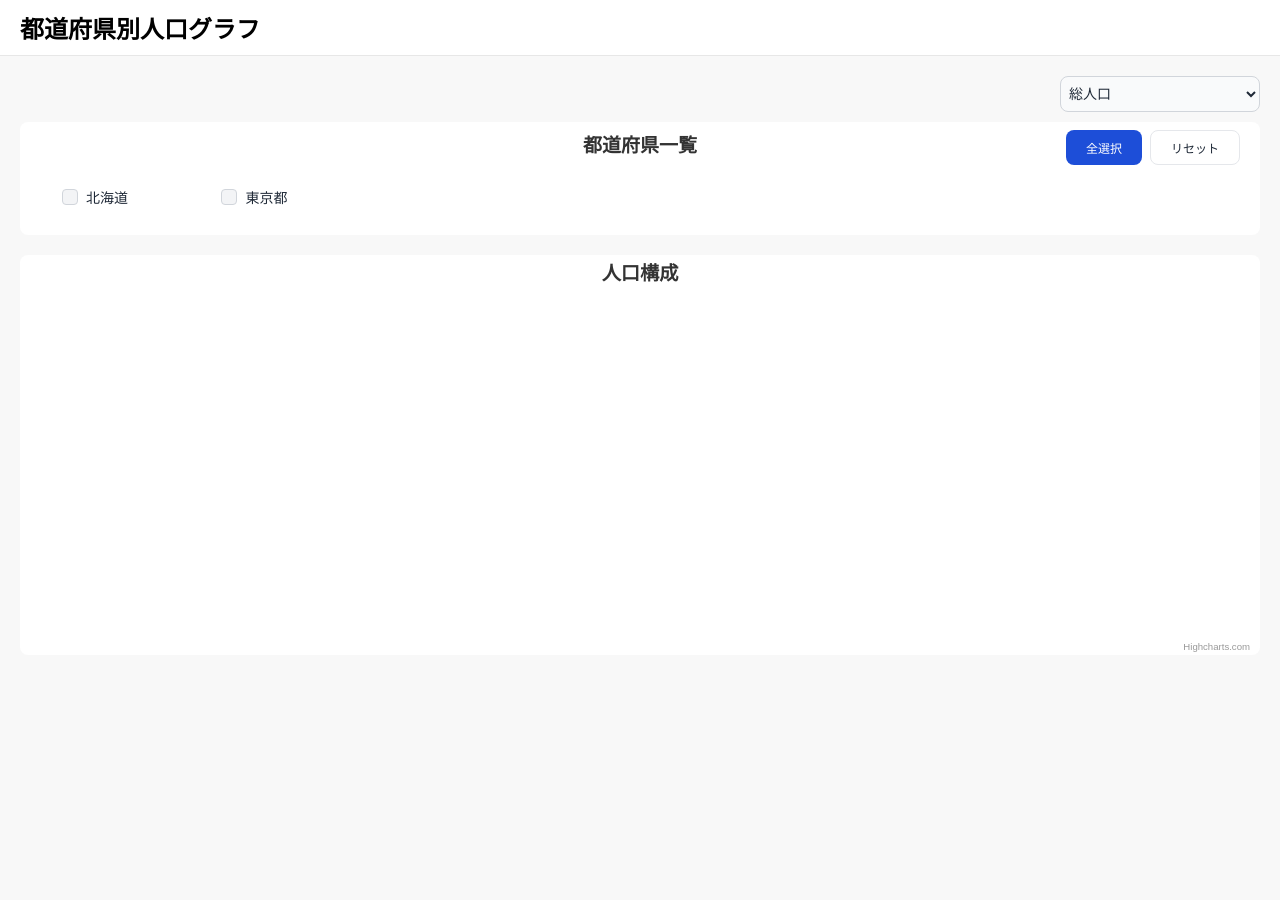
Scenario: App › handles reset button correctly
The width and height of the screenshot is (1280, 900).
Click the button "リセット" at (1195, 148), box [1150,130,1240,165]
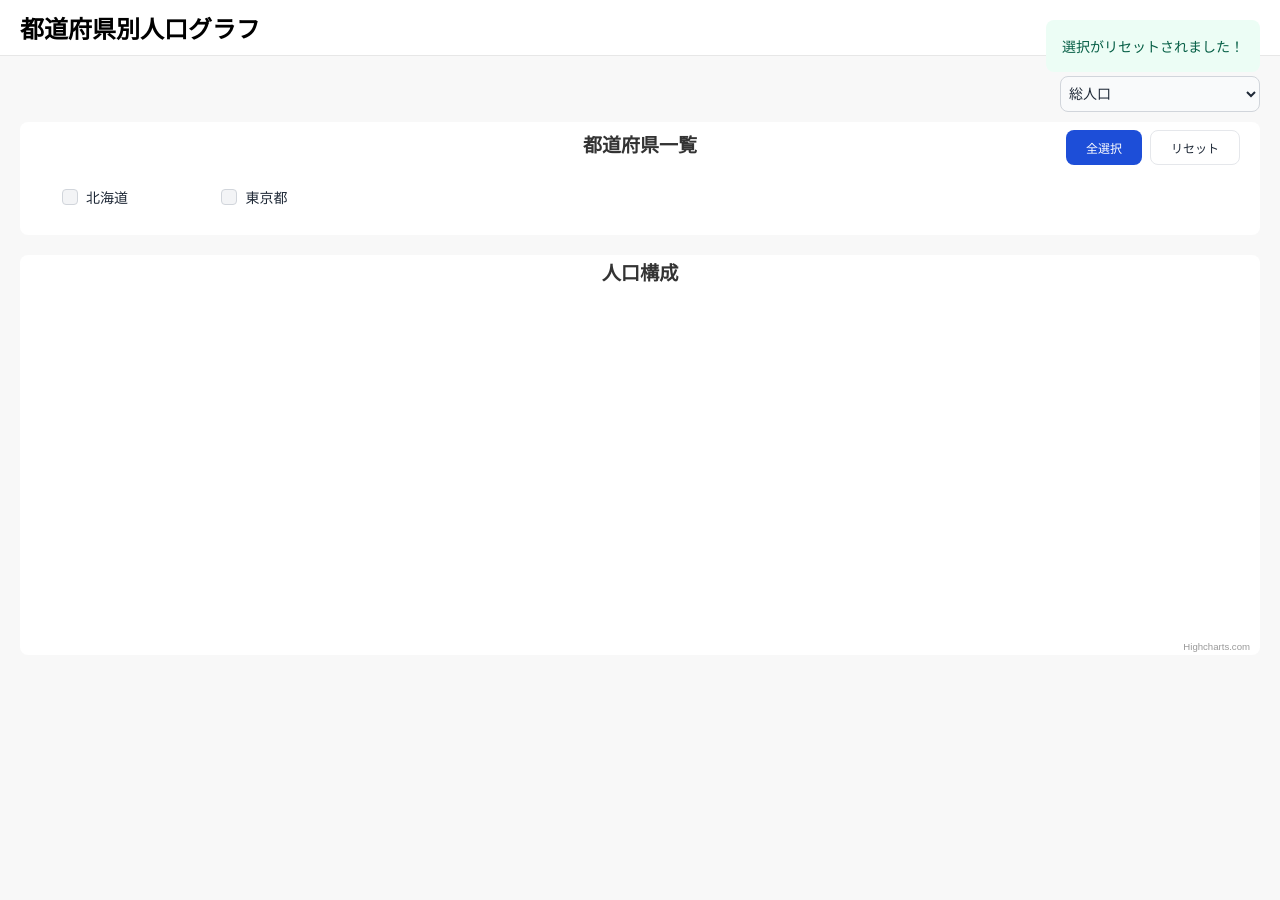
Result: the text "選択がリセットされました！" is shown at [1046,20,1260,72]
